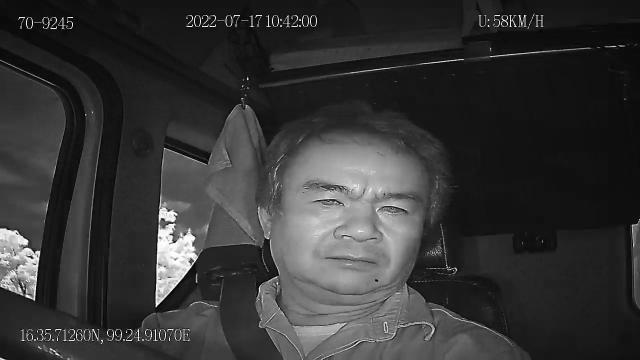SafeDriving: (369, 194, 418, 222), (303, 187, 351, 214)
Seatbelt: (217, 272, 285, 360)
